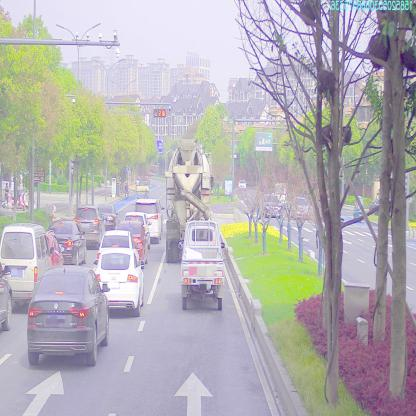traffic-light: (154, 109, 166, 118)
